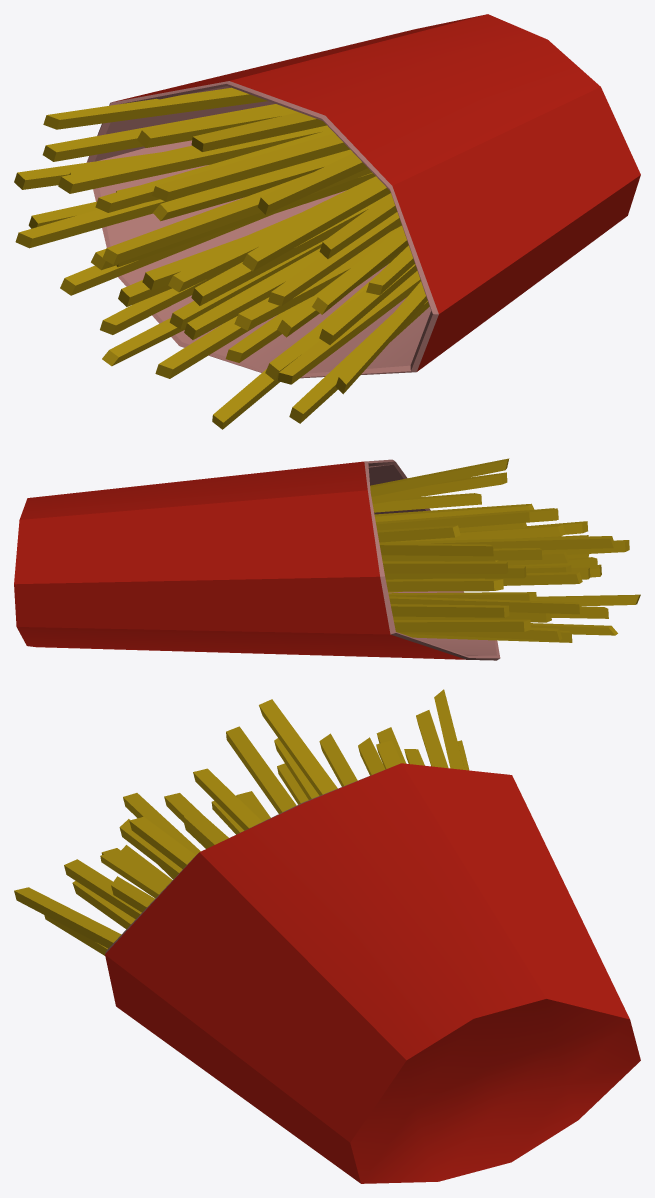
Rendered from Food Court_Fries.fbx.
3 views of the same model, one above another, from view 1: azimuth 30°, elevation 25°; view 2: azimuth 150°, elevation 25°; view 3: azimuth 270°, elevation 25° (orthographic). The views are drawn at different scales.
Visible parts, largest first — view 1: pCube51; view 2: pCube51; view 3: pCube51.
Part boxes in pixels (x1=…): pCube51: x1=14, y1=14, x2=640, y2=429; pCube51: x1=14, y1=458, x2=640, y2=660; pCube51: x1=14, y1=689, x2=640, y2=1183.
Bounding box in the file's own units: 0.5082 × 0.1884 × 0.4251.
